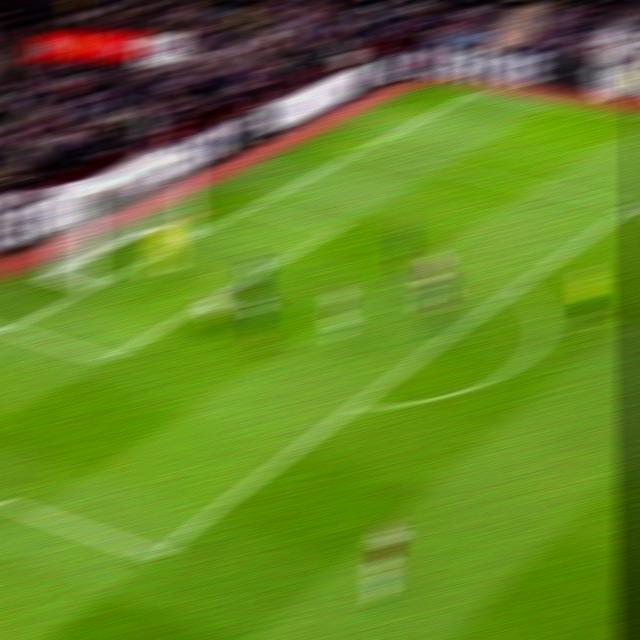bigarea_bottom_inner: (137, 542, 174, 568)
bigarea_top_inner: (615, 195, 640, 219)
bigarea_top_outter: (345, 143, 374, 163)
bottom_arc_area_intersection: (341, 393, 370, 417)
corner: (463, 85, 491, 105)
smallarea_bottom_inner: (97, 350, 123, 368)
smallarea_bottom_outter: (0, 319, 23, 339)
smallarea_top_inner: (321, 219, 351, 242)
smallarea_top_outter: (235, 197, 266, 219)
top_arc_area_intersection: (508, 277, 536, 301)
